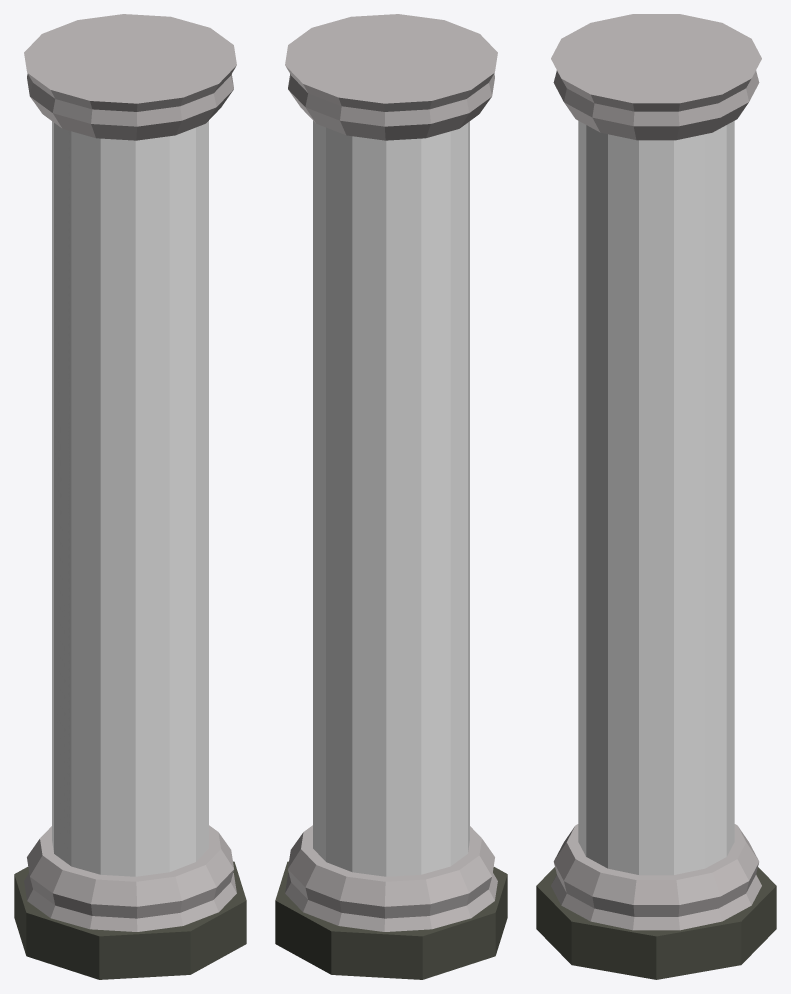
Rendered from Column.fbx.
3 views of the same model, side by side, from view 1: azimuth 30°, elevation 25°; view 2: azimuth 150°, elevation 25°; view 3: azimuth 270°, elevation 25° (orthographic).
Parts seen in each view (by area): view 1: Column; view 2: Column; view 3: Column.
Boxes of the visible parts, left/top/right/bottom form: Column: left=14, top=14, right=246, bottom=979; Column: left=275, top=14, right=507, bottom=979; Column: left=536, top=14, right=776, bottom=979.
Size of the model in its own units: 50 by 200 by 50.
